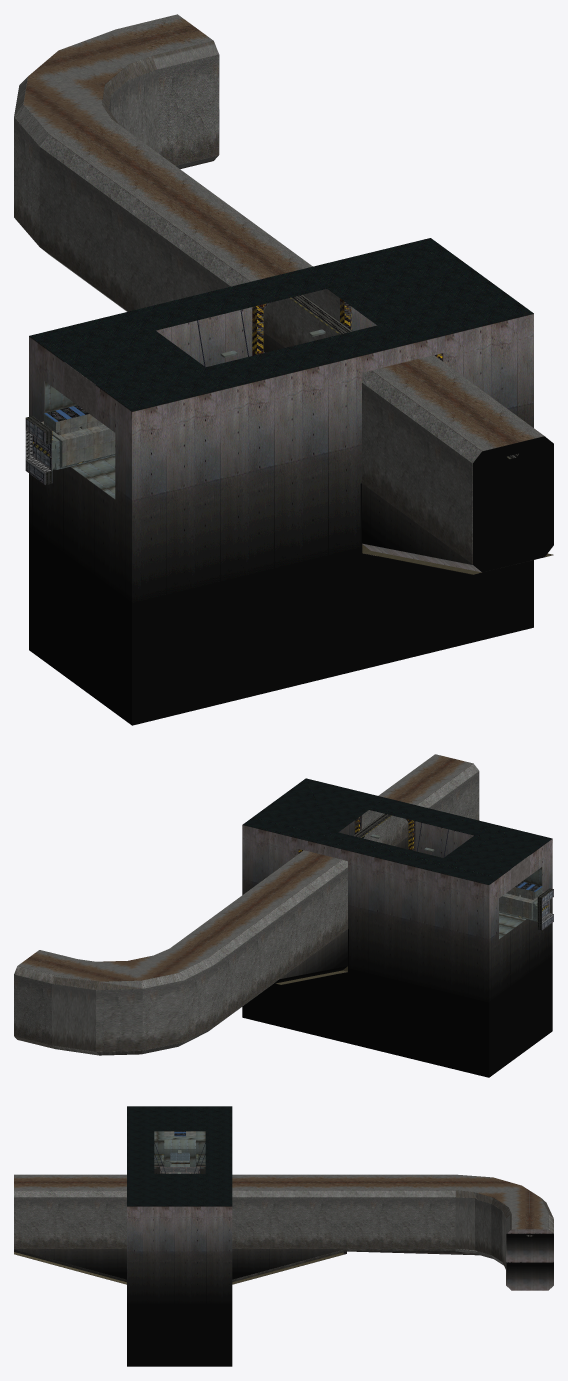
Rendered from intro.obj.
3 views of the same model, one above another, from view 1: azimuth 30°, elevation 25°; view 2: azimuth 150°, elevation 25°; view 3: azimuth 270°, elevation 25° (orthographic). The views are drawn at different scales.
Visible parts, largest first — view 1: Map224, Map227, Map219, Map333, Map238, Map106, Map113, Map284, Map231, Map334, Map236, Map237 (+33 smaller); view 2: Map200, Map199, Map212, Map333, Map108, Map238, Map113, Map130, Map132, Map334, Map128, Map236 (+32 smaller); view 3: Map234, Map233, Map75, Map79, Map77, Map238, Map80, Map123, Map236, Map237, Map232, Map165 (+24 smaller).
Boxes of the visible parts, left/top/right/bottom form: Map224: left=132, top=553, right=533, bottom=725; Map227: left=132, top=387, right=232, bottom=609; Map219: left=232, top=357, right=355, bottom=524; Map333: left=29, top=527, right=132, bottom=725; Map238: left=317, top=249, right=533, bottom=344; Map106: left=364, top=384, right=472, bottom=563; Map113: left=39, top=147, right=146, bottom=311; Map284: left=473, top=436, right=553, bottom=572; Map231: left=232, top=493, right=360, bottom=584; Map334: left=44, top=467, right=132, bottom=601; Map236: left=45, top=328, right=209, bottom=411; Map237: left=29, top=238, right=445, bottom=347; Map200: left=242, top=972, right=488, bottom=1077; Map199: left=352, top=851, right=488, bottom=970; Map212: left=349, top=936, right=488, bottom=1006; Map333: left=489, top=956, right=552, bottom=1077; Map108: left=279, top=867, right=347, bottom=979; Map238: left=252, top=778, right=384, bottom=836; Map113: left=213, top=918, right=278, bottom=1026; Map130: left=96, top=989, right=142, bottom=1051; Map132: left=52, top=983, right=96, bottom=1051; Map334: left=499, top=900, right=552, bottom=994; Map128: left=142, top=980, right=183, bottom=1050; Map236: left=452, top=827, right=551, bottom=877; Map234: left=127, top=1206, right=215, bottom=1303; Map233: left=127, top=1303, right=232, bottom=1366; Map75: left=232, top=1197, right=346, bottom=1248; Map79: left=14, top=1197, right=126, bottom=1248; Map77: left=347, top=1197, right=455, bottom=1248; Map238: left=127, top=1174, right=215, bottom=1206; Map80: left=14, top=1249, right=126, bottom=1279; Map123: left=232, top=1190, right=455, bottom=1197; Map236: left=127, top=1106, right=215, bottom=1125; Map237: left=216, top=1106, right=232, bottom=1206; Map232: left=216, top=1206, right=232, bottom=1303; Map165: left=506, top=1229, right=533, bottom=1290.
Size of the model in its own units: 2390 by 1426 by 4352.
